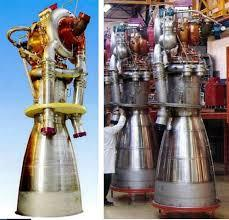thruster: (151, 119, 221, 209), (15, 127, 82, 220), (106, 114, 159, 192)
